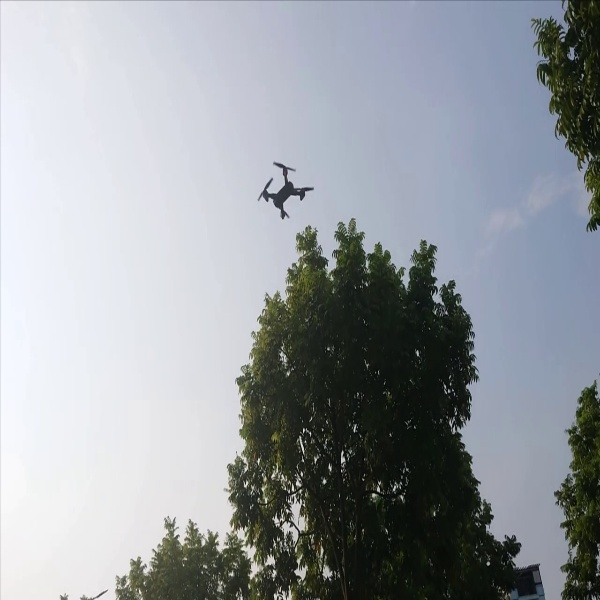drone: (247, 150, 319, 225)
